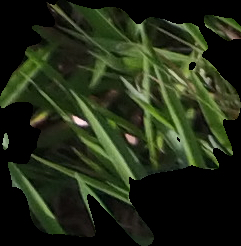grass: (1, 1, 240, 244)
